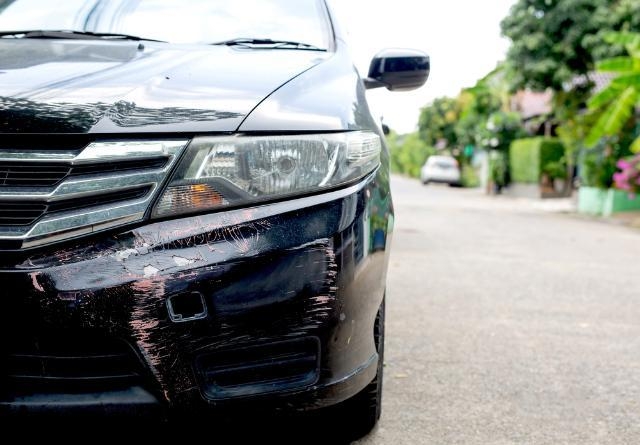rub: (26, 210, 340, 404)
